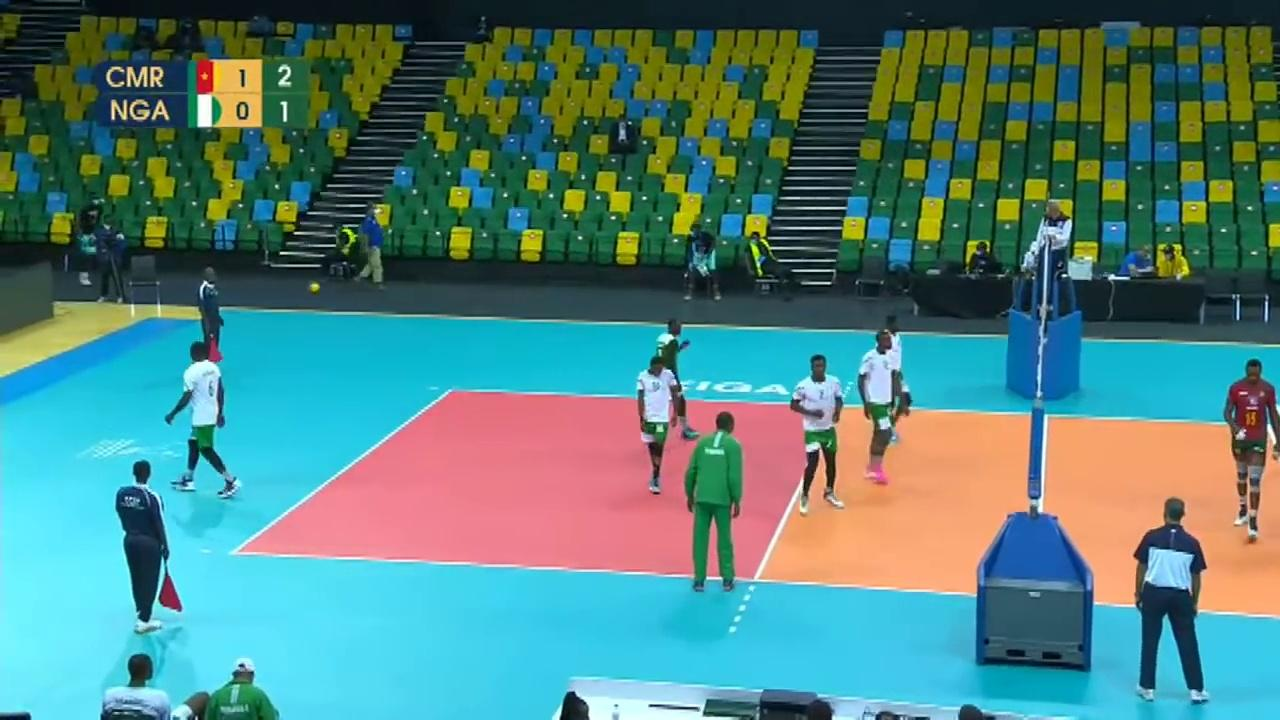player: (164, 347, 239, 492), (1227, 362, 1280, 538), (853, 325, 911, 484), (789, 355, 848, 511), (651, 315, 703, 440), (633, 356, 681, 491), (867, 311, 916, 426)
refree: (1129, 494, 1211, 707), (115, 464, 182, 627), (1036, 201, 1074, 305), (197, 270, 225, 364)
